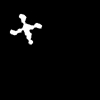single_crochet: (10, 14, 41, 43)
